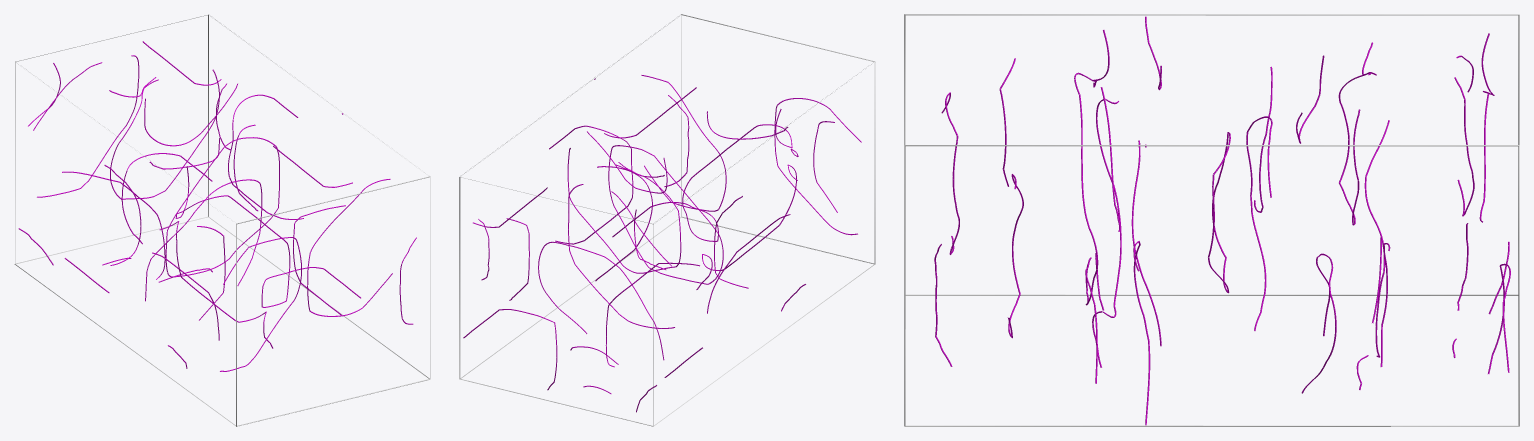
3 renders of one model, left to right at view 1: azimuth 30°, elevation 25°; view 2: azimuth 150°, elevation 25°; view 3: azimuth 270°, elevation 25°, orthographic. The views are drawn at different scales.
Visible parts, largest first — view 1: Shape_IndexedLineSet.001, Shape_IndexedLineSet; view 2: Shape_IndexedLineSet.001, Shape_IndexedLineSet; view 3: Shape_IndexedLineSet.001, Shape_IndexedLineSet.
Boxes of the visible parts, <box> form: Shape_IndexedLineSet.001: <box>18,41,416,371</box>; Shape_IndexedLineSet: <box>14,14,430,426</box>; Shape_IndexedLineSet.001: <box>463,75,861,412</box>; Shape_IndexedLineSet: <box>459,14,875,426</box>; Shape_IndexedLineSet.001: <box>934,16,1510,425</box>; Shape_IndexedLineSet: <box>904,14,1519,426</box>.
Size of the model in its own units: 235 by 235 by 465.
